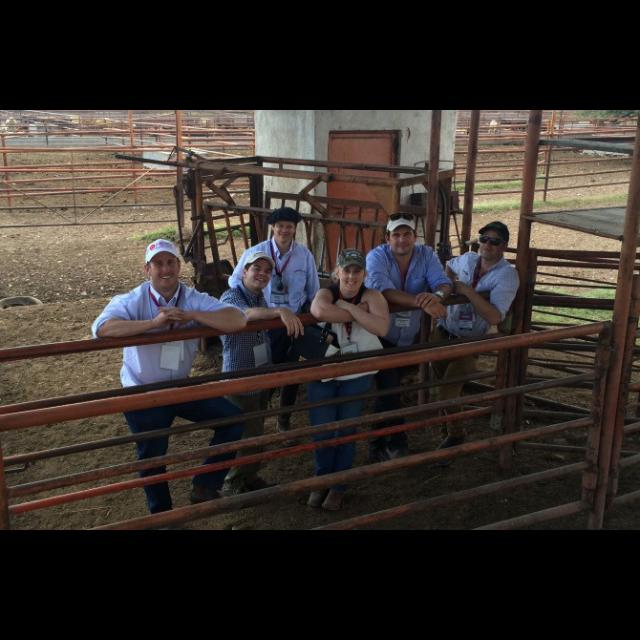head: (144, 240, 182, 292), (385, 218, 419, 258), (337, 254, 369, 296), (241, 254, 273, 292), (480, 224, 510, 262), (272, 213, 298, 245)
person: (361, 210, 457, 476), (226, 206, 324, 464), (424, 220, 524, 470), (304, 248, 392, 514), (218, 252, 304, 494)
